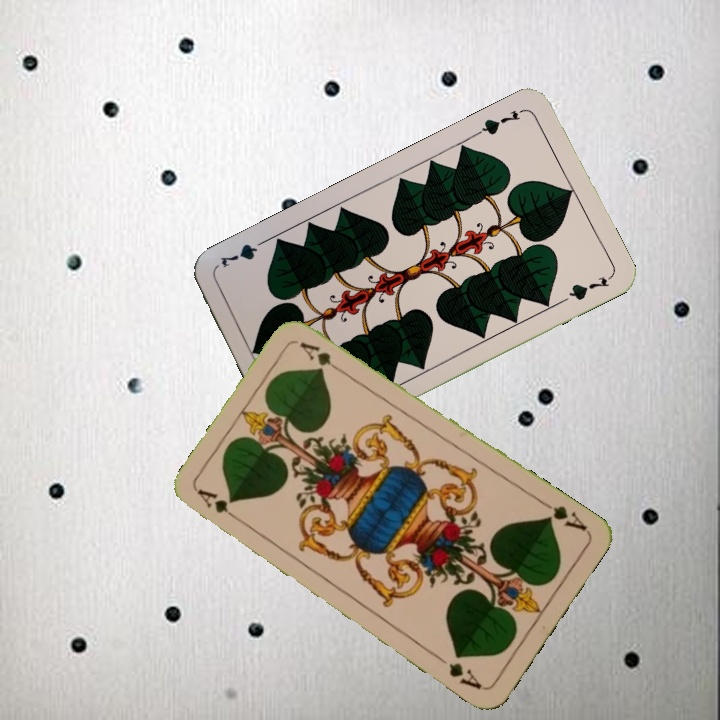G7: (472, 104, 528, 138)
GA: (194, 485, 246, 526), (536, 497, 590, 534)
